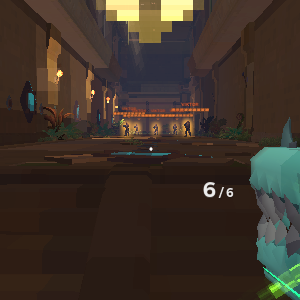model: (183, 119, 194, 141), (120, 118, 130, 138), (151, 122, 161, 138), (133, 122, 142, 137), (171, 123, 179, 136)
